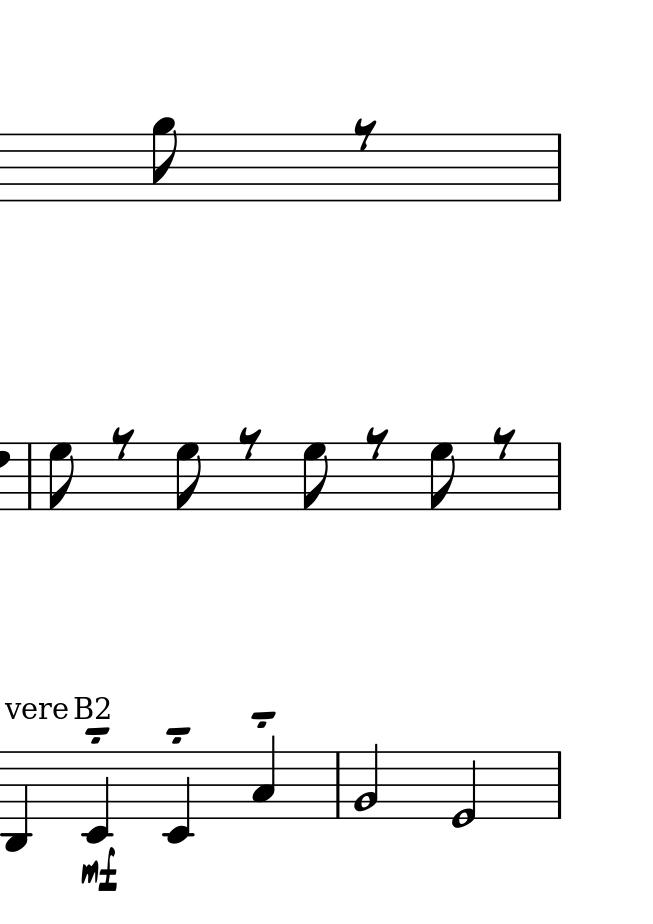2_0: (450, 749, 478, 829)
2_2: (351, 741, 380, 820)
4_-2: (82, 749, 111, 845), (163, 749, 192, 845)
4_-3: (3, 750, 30, 853)
4_3: (250, 735, 276, 819)
8_7: (174, 441, 204, 513), (301, 441, 331, 513), (428, 441, 458, 512), (47, 442, 76, 512)
8_9: (150, 116, 177, 204)
Rests8: (352, 117, 379, 152), (110, 425, 136, 459), (492, 425, 517, 460), (238, 425, 262, 459), (365, 425, 389, 459)
Single_barline: (551, 442, 568, 509), (551, 133, 567, 200), (552, 752, 567, 819)
mf: (81, 847, 119, 893)
